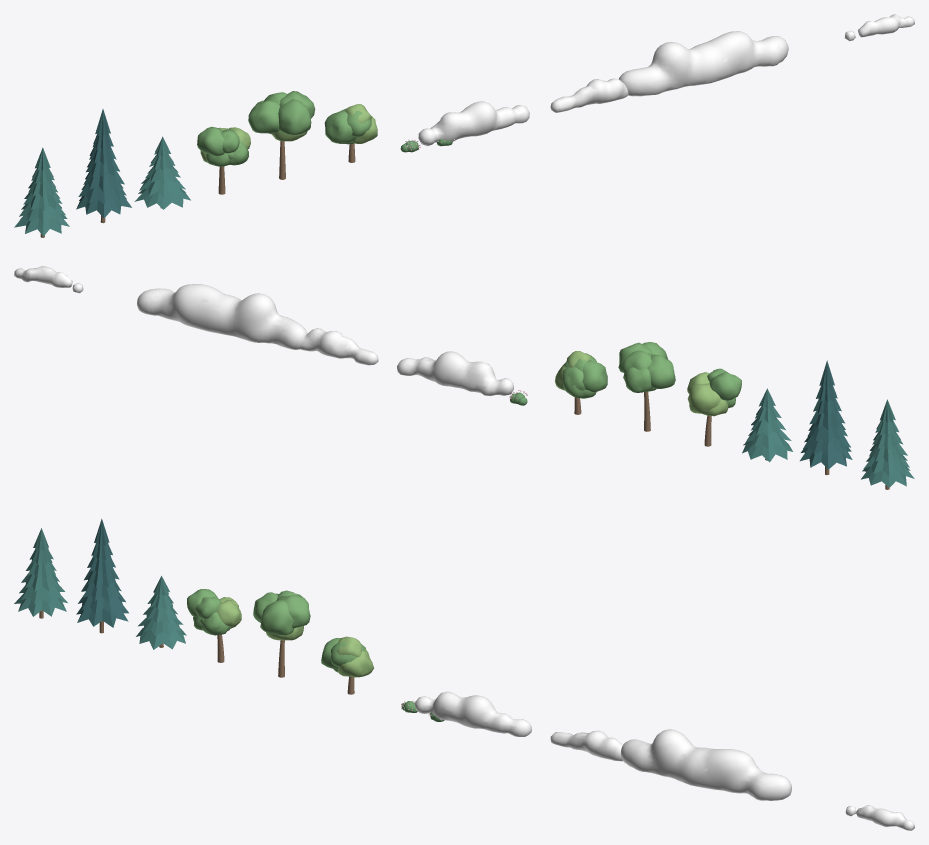
File: nature.glb
The picture shows the model from 3 angles, top to bottom: view 1: azimuth 30°, elevation 25°; view 2: azimuth 150°, elevation 25°; view 3: azimuth 330°, elevation 25°; orthographic projection.
Visible parts, largest first — view 1: cloud_c, pine_b, broadleaf_b, cloud_a, pine_a, broadleaf_a, pine_c, broadleaf_c, cloud_b, cloud_d; view 2: cloud_c, cloud_a, pine_b, broadleaf_b, pine_a, broadleaf_a, broadleaf_c, pine_c, cloud_b, cloud_d; view 3: cloud_c, pine_b, cloud_a, broadleaf_b, pine_a, broadleaf_a, pine_c, broadleaf_c, cloud_b, cloud_d.
Part boxes in pixels (left/top/right/bottom): cloud_c: left=619, top=31, right=788, bottom=96; pine_b: left=76, top=109, right=131, bottom=223; broadleaf_b: left=248, top=91, right=315, bottom=179; cloud_a: left=418, top=101, right=529, bottom=146; pine_a: left=14, top=147, right=69, bottom=237; broadleaf_a: left=197, top=126, right=250, bottom=194; pine_c: left=134, top=136, right=190, bottom=209; broadleaf_c: left=324, top=104, right=377, bottom=162; cloud_b: left=550, top=78, right=628, bottom=112; cloud_d: left=844, top=14, right=914, bottom=41; cloud_c: left=137, top=284, right=307, bottom=349; cloud_a: left=397, top=351, right=513, bottom=396; pine_b: left=800, top=360, right=852, bottom=474; broadleaf_b: left=618, top=342, right=675, bottom=431; pine_a: left=861, top=399, right=914, bottom=489; broadleaf_a: left=687, top=368, right=741, bottom=446; broadleaf_c: left=555, top=351, right=607, bottom=414; pine_c: left=742, top=388, right=792, bottom=462; cloud_b: left=299, top=328, right=378, bottom=365; cloud_d: left=14, top=266, right=83, bottom=293; cloud_c: left=621, top=729, right=791, bottom=800; pine_b: left=76, top=518, right=128, bottom=633; cloud_a: left=415, top=691, right=531, bottom=736; broadleaf_b: left=253, top=590, right=310, bottom=677; pine_a: left=14, top=528, right=67, bottom=618; broadleaf_a: left=187, top=589, right=241, bottom=662; pine_c: left=136, top=576, right=186, bottom=649; broadleaf_c: left=321, top=636, right=373, bottom=694; cloud_b: left=550, top=730, right=622, bottom=761; cloud_d: left=845, top=805, right=914, bottom=830.
Bounding box in the file's own units: 82.37 × 10.38 × 5.48.
